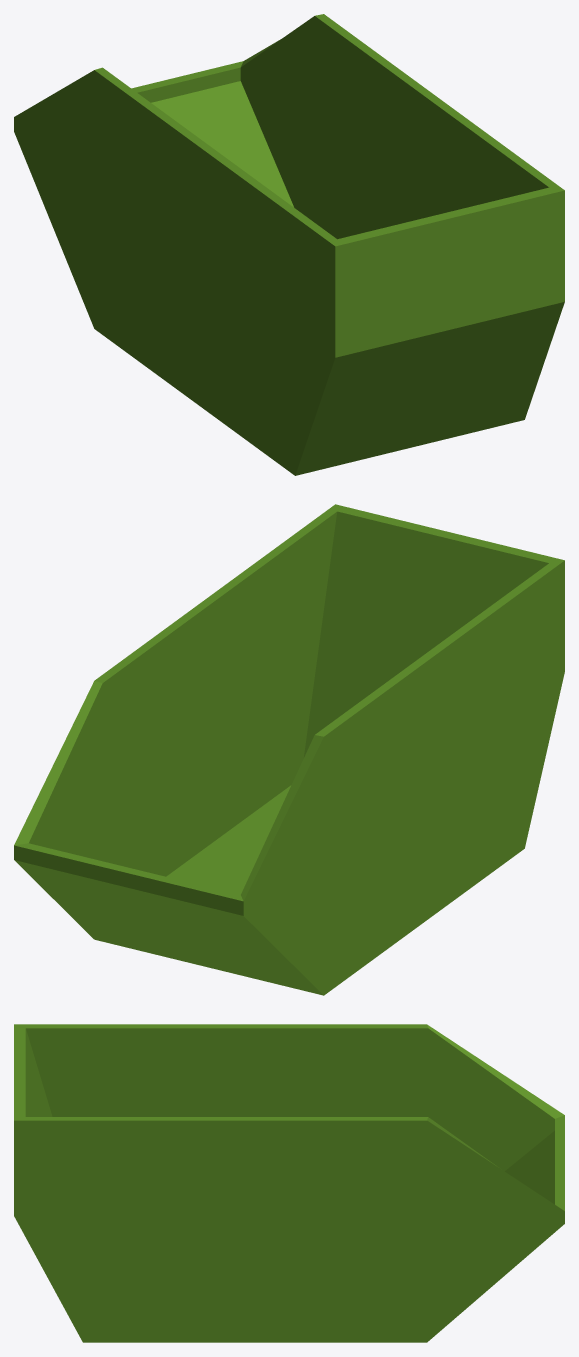
File: prop-skip.glb
3 views of the same model, one above another, from view 1: azimuth 30°, elevation 25°; view 2: azimuth 150°, elevation 25°; view 3: azimuth 270°, elevation 25° (orthographic). The views are drawn at different scales.
Parts seen in each view (by area): view 1: skip; view 2: skip; view 3: skip.
Part boxes in pixels (bbox=[...]): skip: bbox=[14, 14, 564, 475]; skip: bbox=[14, 504, 564, 995]; skip: bbox=[14, 1024, 564, 1342].
Bounding box in the file's own units: 1.65 × 1.78 × 4.
